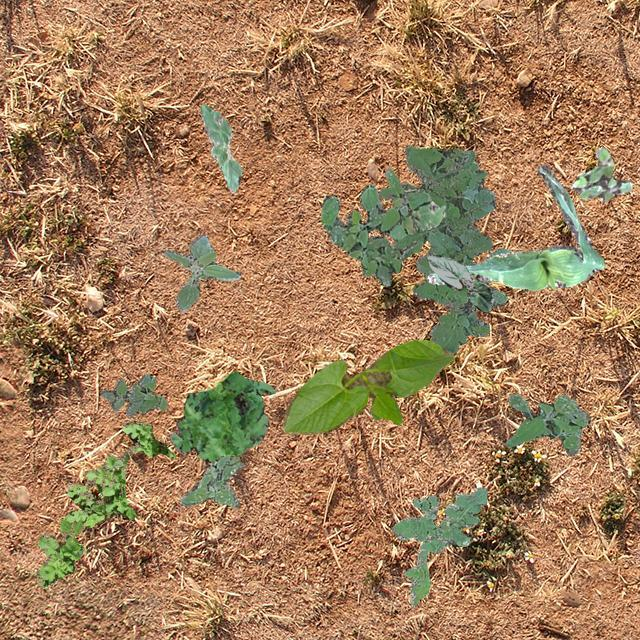crop: (426, 164, 604, 290), (281, 338, 454, 434), (426, 252, 492, 312), (200, 104, 240, 192), (385, 200, 445, 240)
weed: (378, 144, 510, 352), (35, 419, 174, 586), (320, 166, 430, 284), (392, 486, 486, 604), (168, 369, 274, 462), (163, 232, 240, 310), (504, 392, 590, 454), (180, 454, 243, 508), (568, 146, 630, 200), (100, 372, 166, 416)
